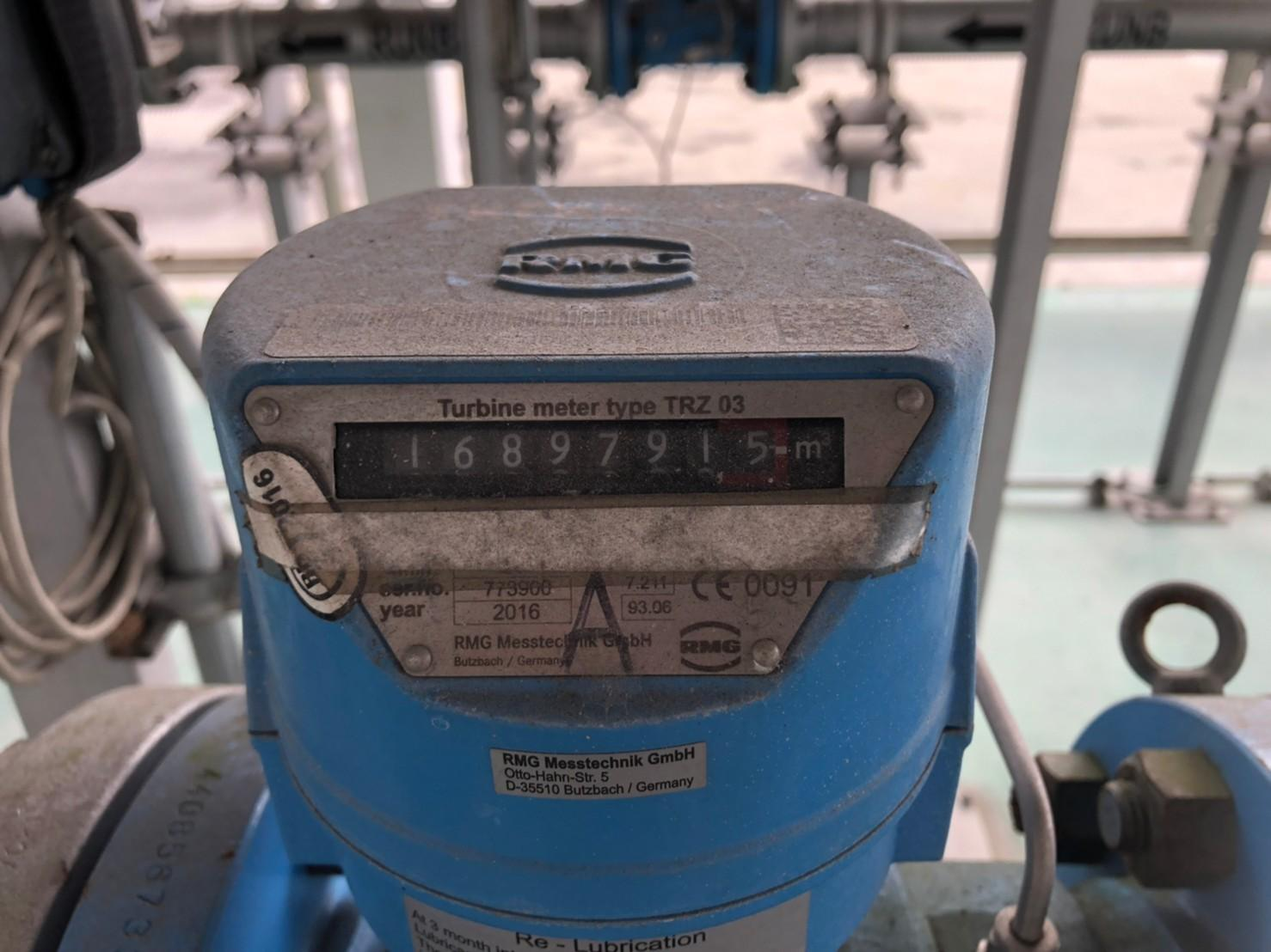analog_dial: (333, 418, 845, 499)
